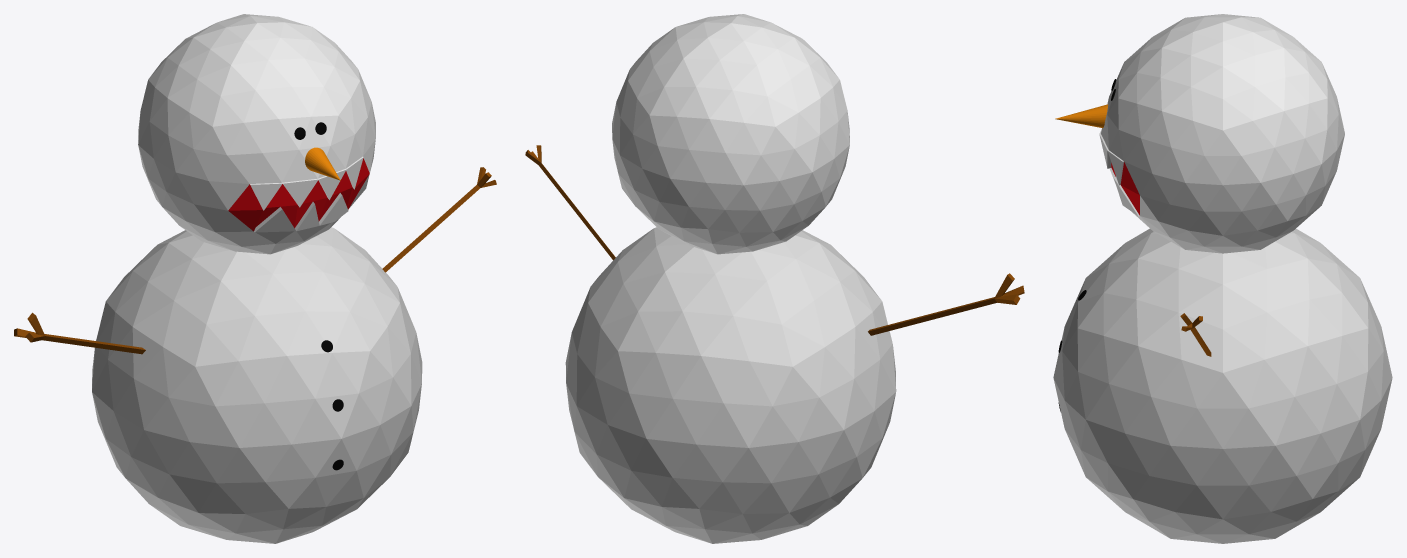
File: Snowamn.fbx
The picture shows the model from 3 angles, left to right: view 1: azimuth 30°, elevation 25°; view 2: azimuth 150°, elevation 25°; view 3: azimuth 270°, elevation 25°; orthographic projection.
Parts seen in each view (by area): view 1: 아이코스피어, 아이코스피어.001, 원뿔; view 2: 아이코스피어, 아이코스피어.001; view 3: 아이코스피어, 아이코스피어.001, 원뿔.
Boxes of the visible parts, <box> form: 아이코스피어: <box>14,167,496,543</box>; 아이코스피어.001: <box>138,14,375,254</box>; 원뿔: <box>305,147,340,180</box>; 아이코스피어: <box>525,145,1024,543</box>; 아이코스피어.001: <box>612,14,849,254</box>; 아이코스피어: <box>1053,228,1392,543</box>; 아이코스피어.001: <box>1099,14,1344,253</box>; 원뿔: <box>1055,104,1108,128</box>.
Size of the model in its own units: 529 by 529 by 319.
